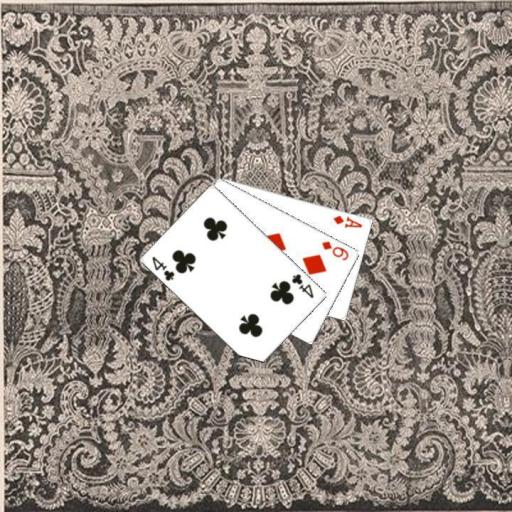card-corner: (288, 270, 316, 300), (318, 238, 350, 262), (150, 253, 176, 282), (331, 212, 364, 229)
